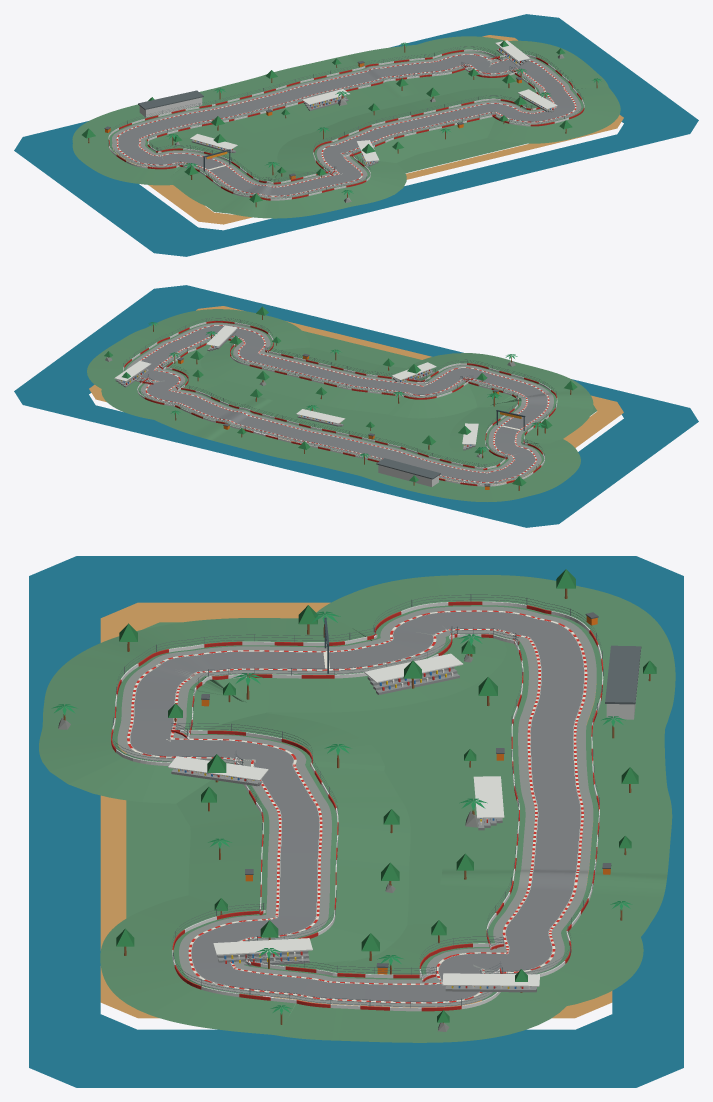
Rendered from sunset_cove.glb.
3 renders of one model, top to bottom at view 1: azimuth 30°, elevation 25°; view 2: azimuth 150°, elevation 25°; view 3: azimuth 270°, elevation 25°, orthographic. The views are drawn at different scales.
Parts seen in each view (by area): view 1: track_embankment, ocean, track_surface, track_runoff, island_vegetation, continuous_safety_barriers, sand_island, track_curbs, formula_grandstands, continuous_catch_fence, park_trees, pit_buildings (+1 smaller); view 2: track_embankment, ocean, track_surface, track_runoff, island_vegetation, continuous_safety_barriers, sand_island, track_curbs, formula_grandstands, continuous_catch_fence, park_trees, pit_buildings (+1 smaller); view 3: track_embankment, ocean, track_surface, track_runoff, island_vegetation, continuous_safety_barriers, sand_island, formula_grandstands, track_curbs, continuous_catch_fence, park_trees, pit_buildings (+2 smaller).
Boxes of the visible parts, left/top/right/bottom form: track_embankment: left=72, top=36, right=620, bottom=218; ocean: left=14, top=14, right=698, bottom=256; track_surface: left=118, top=54, right=574, bottom=195; track_runoff: left=112, top=52, right=581, bottom=198; island_vegetation: left=149, top=74, right=579, bottom=213; continuous_safety_barriers: left=108, top=49, right=584, bottom=200; sand_island: left=113, top=35, right=623, bottom=224; track_curbs: left=116, top=54, right=576, bottom=196; formula_grandstands: left=190, top=40, right=557, bottom=166; continuous_catch_fence: left=108, top=46, right=584, bottom=198; park_trees: left=82, top=40, right=572, bottom=207; pit_buildings: left=138, top=90, right=203, bottom=117; track_embankment: left=87, top=309, right=593, bottom=501; ocean: left=14, top=285, right=698, bottom=527; track_surface: left=140, top=326, right=547, bottom=481; track_runoff: left=126, top=323, right=553, bottom=484; island_vegetation: left=143, top=330, right=596, bottom=484; continuous_safety_barriers: left=123, top=321, right=557, bottom=486; sand_island: left=89, top=306, right=623, bottom=484; track_curbs: left=140, top=325, right=549, bottom=482; formula_grandstands: left=114, top=325, right=478, bottom=450; continuous_catch_fence: left=123, top=317, right=556, bottom=484; park_trees: left=104, top=306, right=577, bottom=490; pit_buildings: left=376, top=458, right=440, bottom=486; track_embankment: left=39, top=575, right=675, bottom=1042; ocean: left=29, top=556, right=683, bottom=1087; track_surface: left=129, top=611, right=584, bottom=1002; track_runoff: left=117, top=606, right=596, bottom=1007; island_vegetation: left=126, top=622, right=586, bottom=996; continuous_safety_barriers: left=111, top=601, right=603, bottom=1011; sand_island: left=100, top=602, right=612, bottom=1018; formula_grandstands: left=168, top=653, right=540, bottom=992; track_curbs: left=127, top=610, right=587, bottom=1003; continuous_catch_fence: left=111, top=594, right=603, bottom=1007; park_trees: left=116, top=569, right=656, bottom=1023; pit_buildings: left=605, top=645, right=641, bottom=719.
Size of the model in its own units: 4985 by 209 by 2595.
